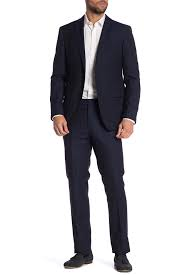F_M_suit jacket: (46, 17, 148, 126)
F_dress pants: (65, 103, 133, 260)
F_shirt: (78, 9, 103, 100)
